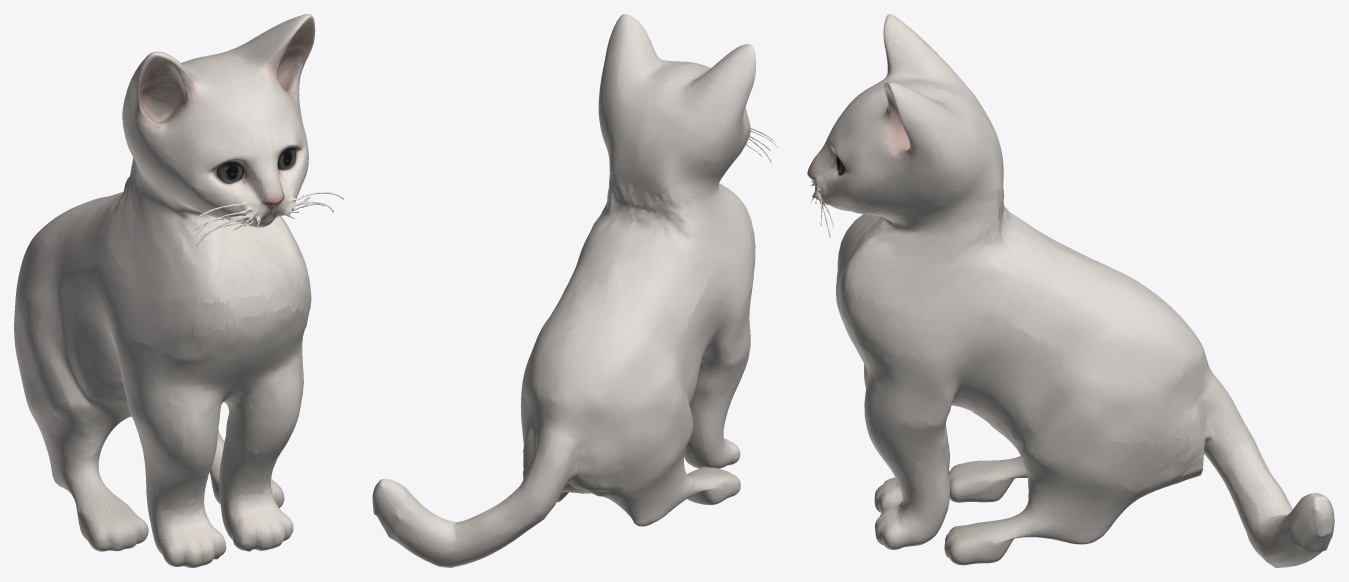
Rendered from snowdrop-sit-volume-static.glb.
3 renders of one model, left to right at view 1: azimuth 30°, elevation 25°; view 2: azimuth 150°, elevation 25°; view 3: azimuth 270°, elevation 25°, orthographic. The views are drawn at different scales.
Parts seen in each view (by area): view 1: Snowdrop_sit_static; view 2: Snowdrop_sit_static; view 3: Snowdrop_sit_static.
Boxes of the visible parts, left/top/right/bottom form: Snowdrop_sit_static: left=14, top=14, right=343, bottom=567; Snowdrop_sit_static: left=372, top=14, right=778, bottom=567; Snowdrop_sit_static: left=807, top=14, right=1334, bottom=567.
Size of the model in its own units: 0.5444 by 1.07 by 1.06.
1 material, 1 textured.
